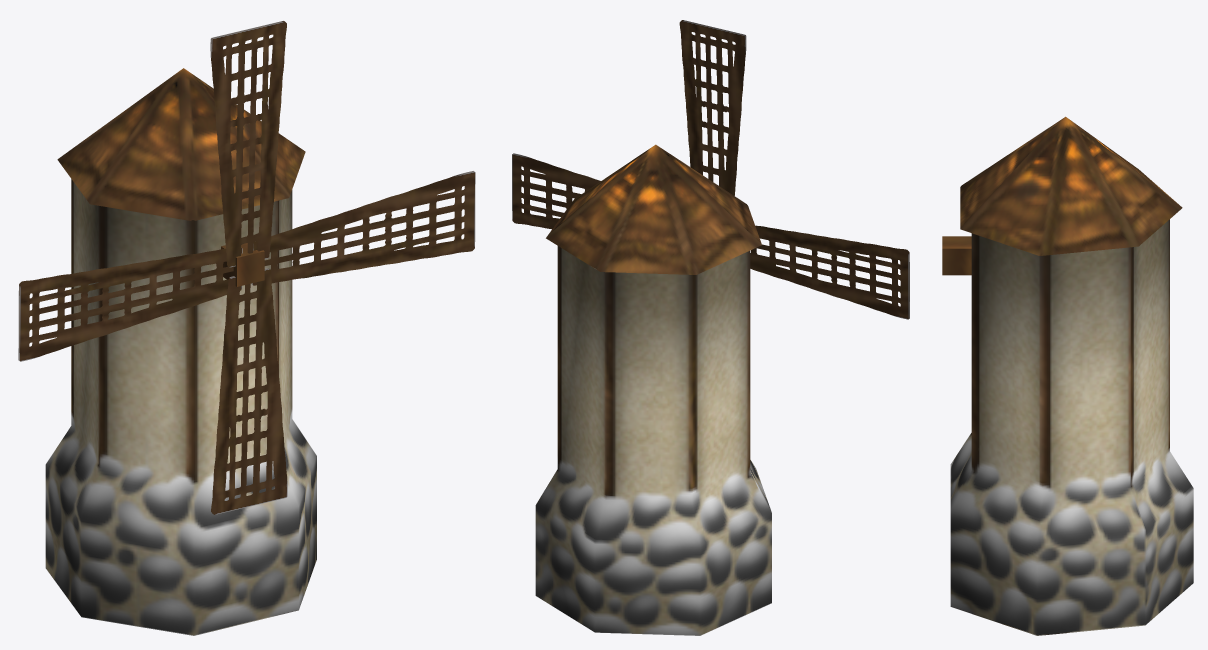
Rendered from Mill 1.fbx.
3 renders of one model, left to right at view 1: azimuth 30°, elevation 25°; view 2: azimuth 150°, elevation 25°; view 3: azimuth 270°, elevation 25°, orthographic. The views are drawn at different scales.
Parts seen in each view (by area): view 1: Mill, MillH; view 2: Mill, MillH; view 3: Mill, MillH.
Boxes of the visible parts, left/top/right/bottom form: Mill: left=45, top=68, right=316, bottom=635; MillH: left=18, top=21, right=475, bottom=514; Mill: left=535, top=144, right=771, bottom=635; MillH: left=512, top=20, right=909, bottom=319; Mill: left=950, top=116, right=1193, bottom=635; MillH: left=942, top=236, right=971, bottom=275.
Bounding box in the file's own units: 385 × 475 × 196.
1 material, 1 textured.
